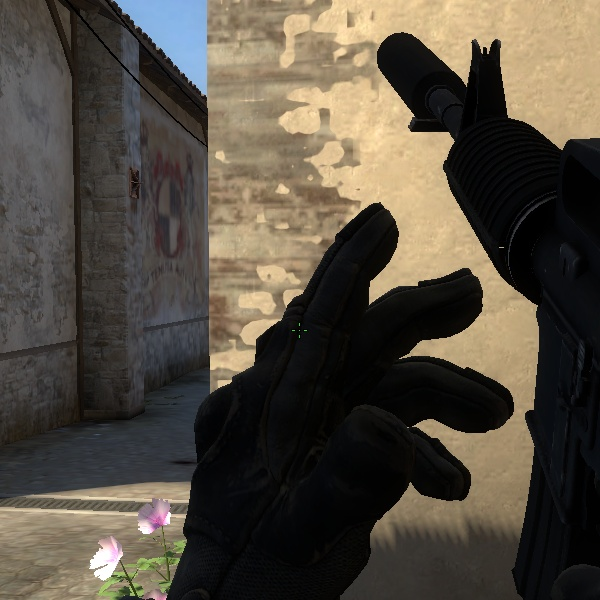t_body: (198, 11, 600, 592)
